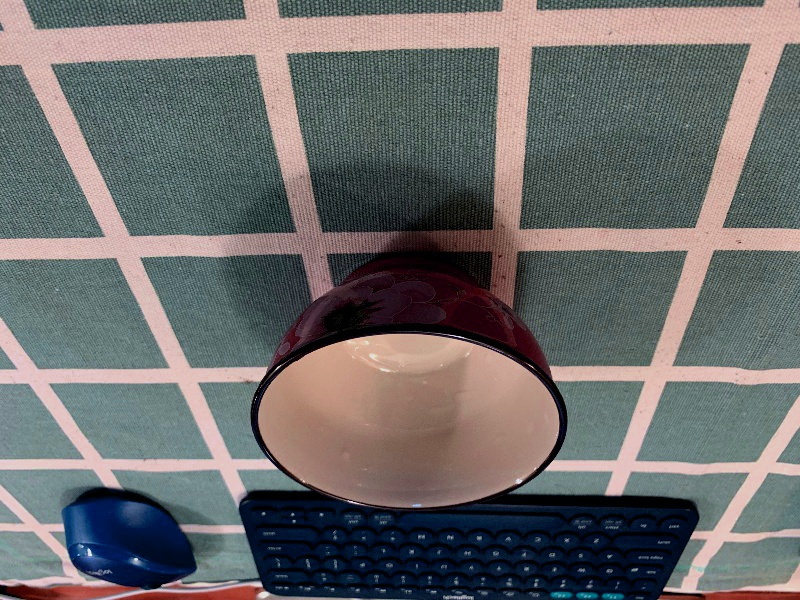bowl_small: (241, 245, 572, 517)
